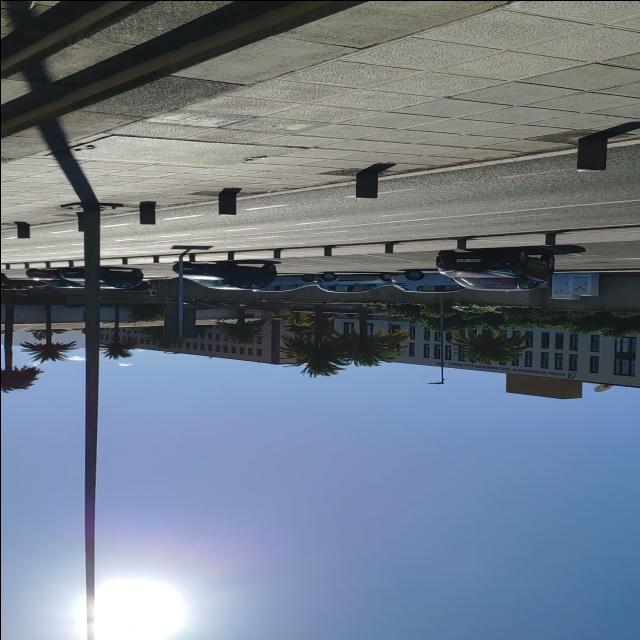Palm-Trees: (280, 303, 352, 375), (321, 305, 404, 366), (0, 302, 39, 392), (20, 302, 74, 362), (448, 327, 524, 362), (99, 304, 133, 358), (216, 307, 264, 340)
